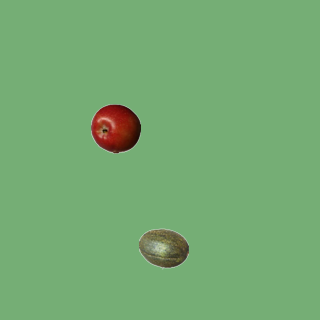Apple Braeburn: (90, 103, 140, 153)
Melon Piel de Sapo: (138, 223, 188, 273)
